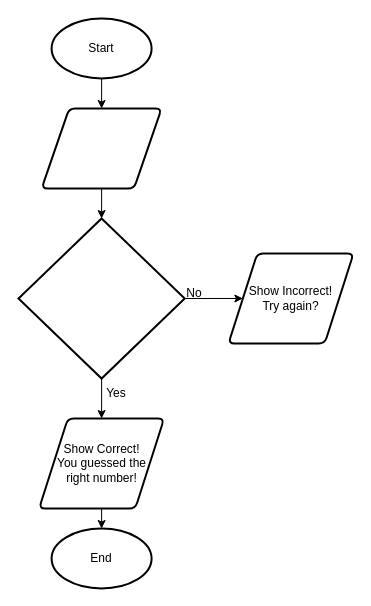
The diagram is 371 pixels wide and 606 high, and some of its shapes have lost their labels. The centre of each missing label's shape, as x and y in pixels:
"Get Inputted number" belongs at (101,148).
"Is the inputted number the same as the constant?" belongs at (101,298).
